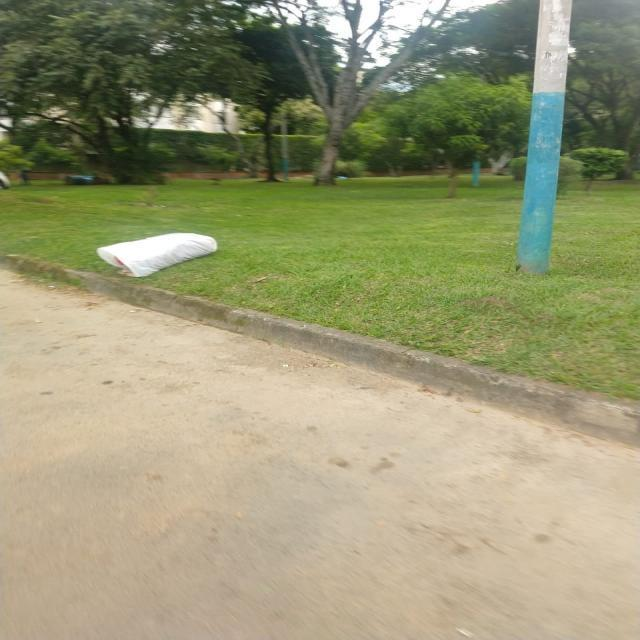Garbage_Bag: (86, 223, 227, 277)
